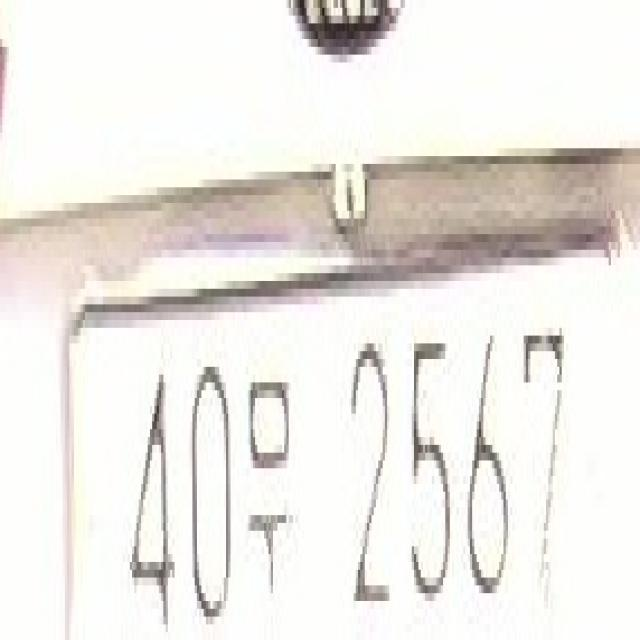0: (188, 352, 235, 624)
2: (346, 336, 392, 608)
4: (128, 351, 179, 632)
5: (408, 328, 454, 609)
6: (461, 320, 510, 601)
7: (517, 312, 566, 593)
license_plate: (63, 203, 620, 640)
mu: (246, 367, 293, 609)
